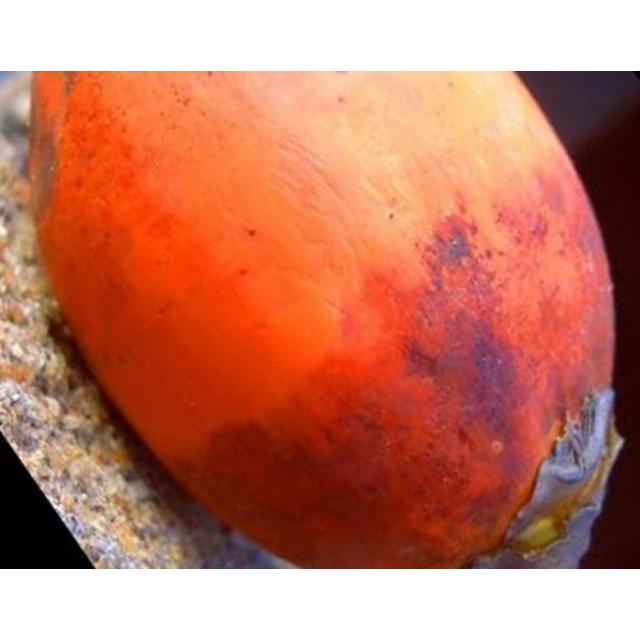good: (20, 71, 626, 568)
